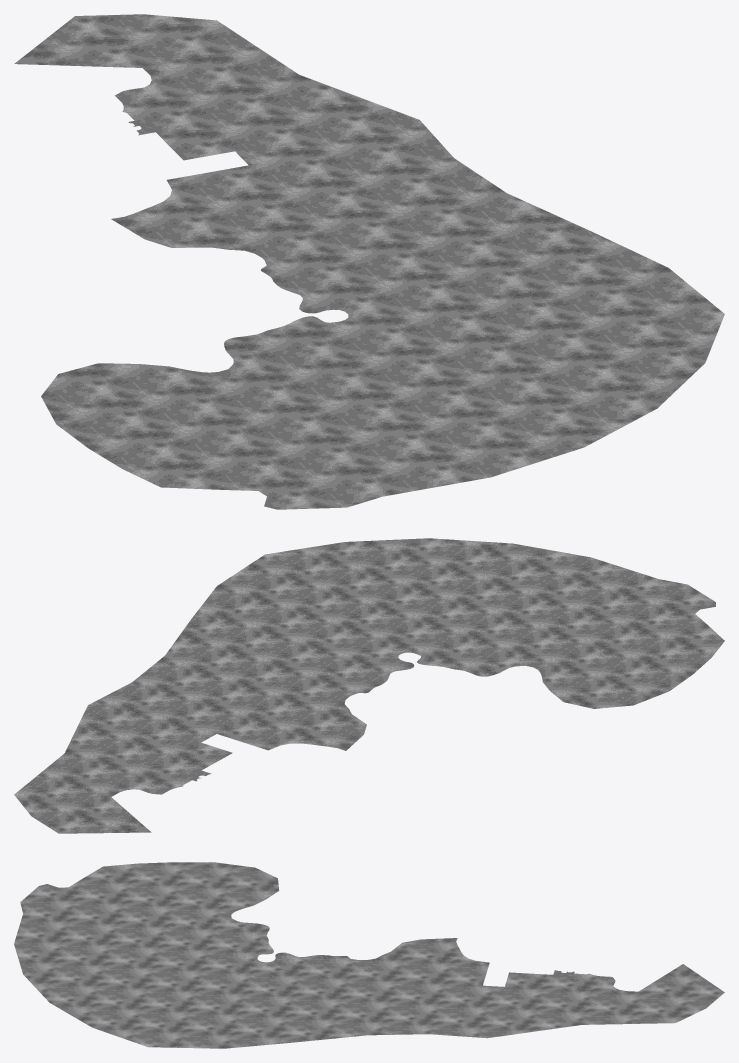
The model's file is seaindirect.dae.
The picture shows the model from 3 angles, top to bottom: view 1: azimuth 30°, elevation 25°; view 2: azimuth 150°, elevation 25°; view 3: azimuth 270°, elevation 25°; orthographic projection. The views are drawn at different scales.
Visible parts, largest first — view 1: m0; view 2: m0; view 3: m0.
Boxes of the visible parts, <box> form: m0: <box>14,14,724,509</box>; m0: <box>14,538,724,833</box>; m0: <box>14,862,724,1048</box>.
Size of the model in its own units: 89943 by 0 by 144856.
